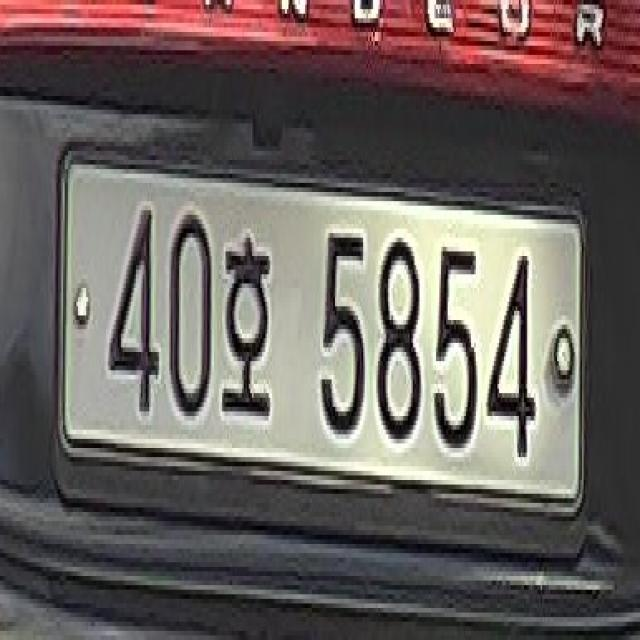0: (169, 206, 212, 420)
4: (104, 206, 161, 425), (483, 256, 537, 457)
5: (316, 220, 369, 443), (433, 228, 479, 462)
8: (376, 228, 423, 444)
ho: (222, 224, 272, 421)
license_plate: (55, 137, 585, 512)
